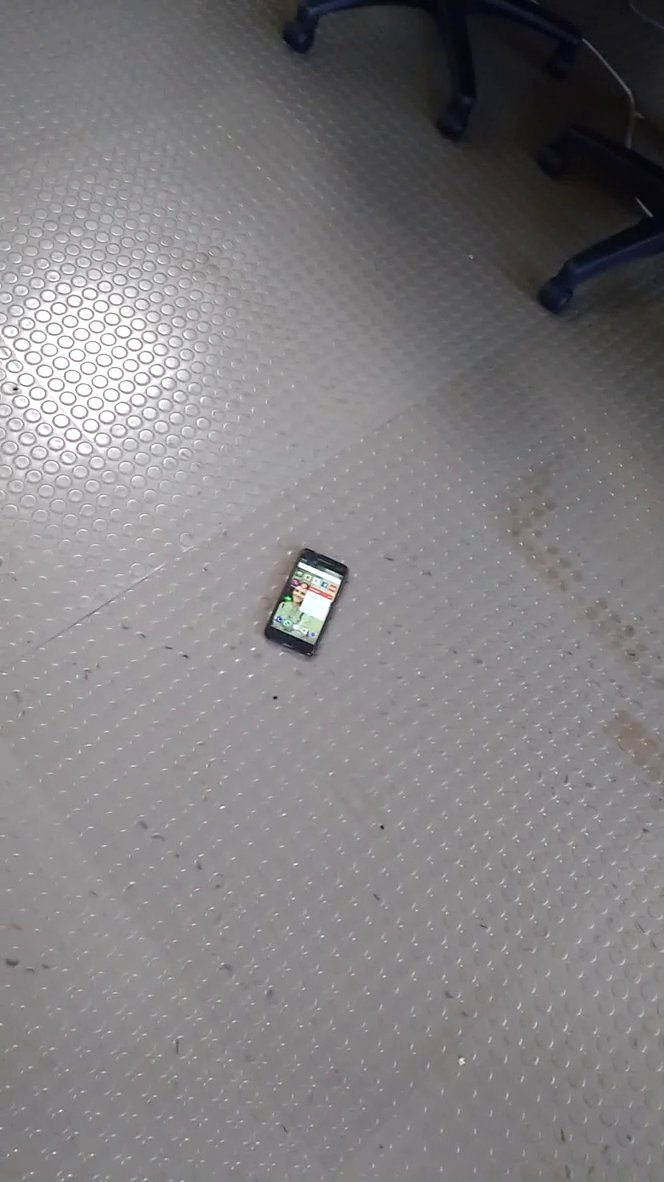phone: (258, 535, 355, 664)
